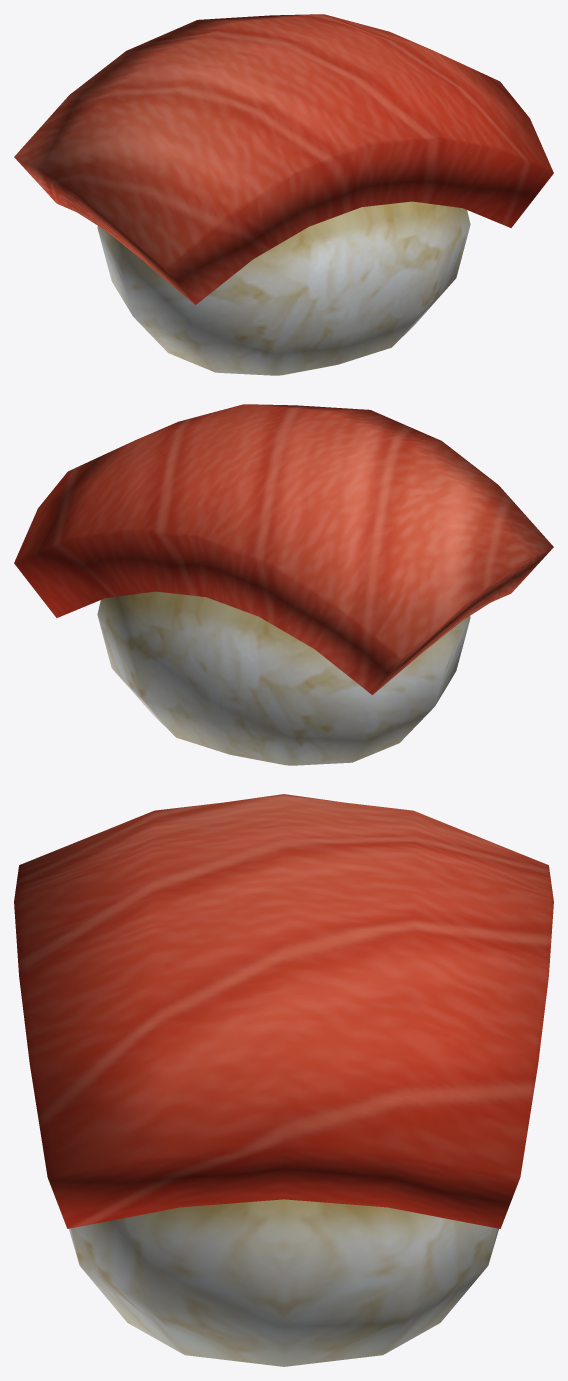
Rendered from toro.fbx.
3 renders of one model, top to bottom at view 1: azimuth 30°, elevation 25°; view 2: azimuth 150°, elevation 25°; view 3: azimuth 270°, elevation 25°, orthographic. The views are drawn at different scales.
Visible parts, largest first — view 1: polySurface13; view 2: polySurface13; view 3: polySurface13.
Boxes of the visible parts, <box> form: polySurface13: <box>14,14,553,375</box>; polySurface13: <box>14,404,553,765</box>; polySurface13: <box>14,794,553,1366</box>.
Bounding box in the file's own units: 1.96 × 1.33 × 1.36.
